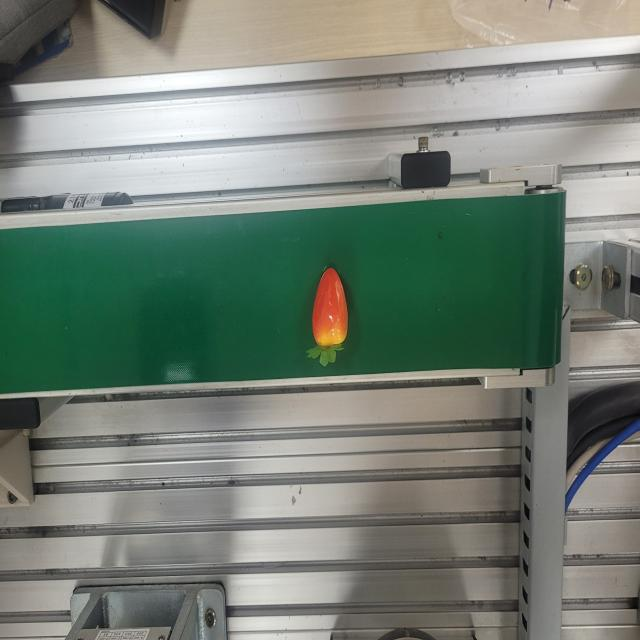Small Unripe Strawberry: (306, 263, 350, 367)
